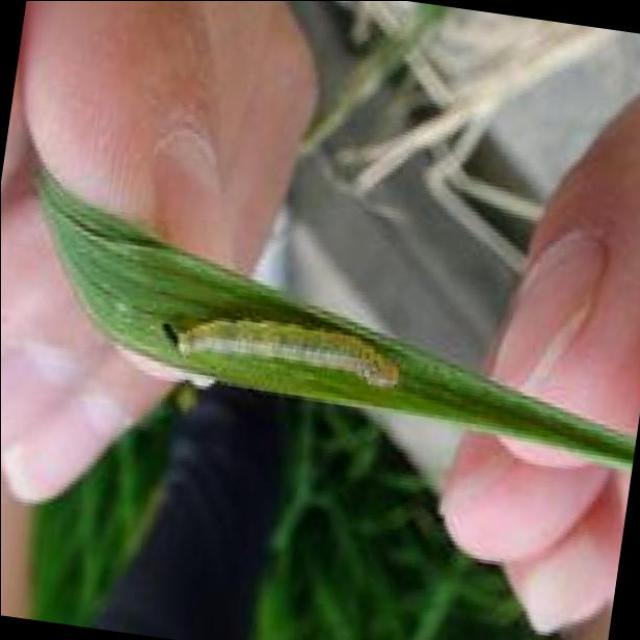leaf folder: (168, 318, 397, 385)
